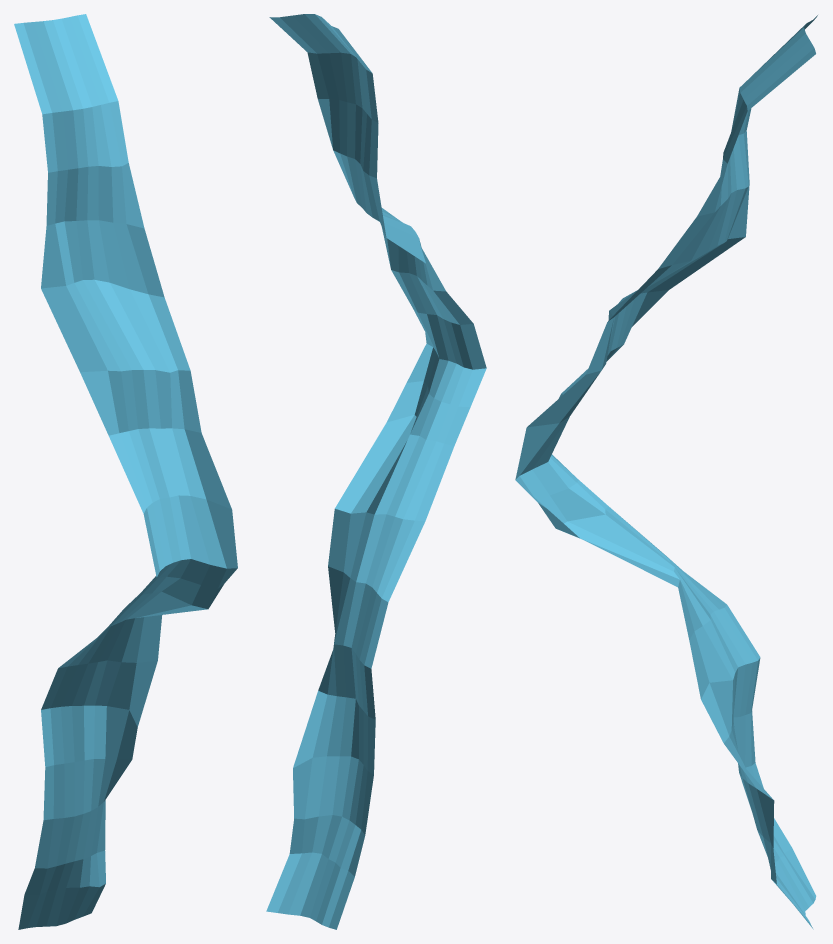
Rendered from rio.fbx.
The picture shows the model from 3 angles, left to right: view 1: azimuth 30°, elevation 25°; view 2: azimuth 150°, elevation 25°; view 3: azimuth 270°, elevation 25°; orthographic projection. The views are drawn at different scales.
Visible parts, largest first — view 1: Plano; view 2: Plano; view 3: Plano.
Part boxes in pixels (x1=…): Plano: x1=14, y1=14, x2=237, y2=929; Plano: x1=266, y1=14, x2=486, y2=929; Plano: x1=515, y1=15, x2=817, y2=929.
Size of the model in its own units: 2.49 by 24.47 by 7.63.
